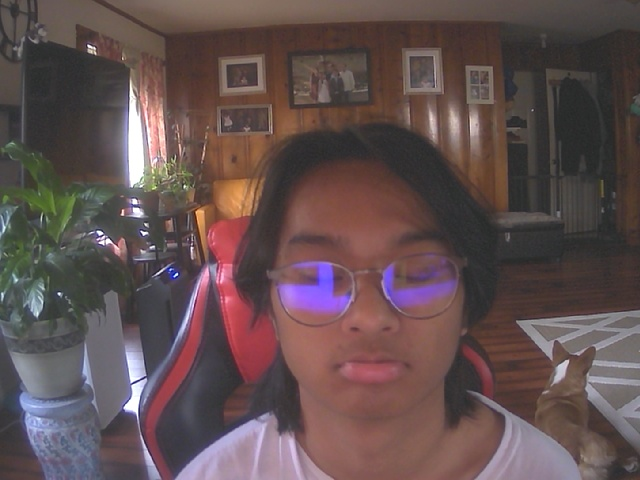sad: (256, 129, 486, 425)
